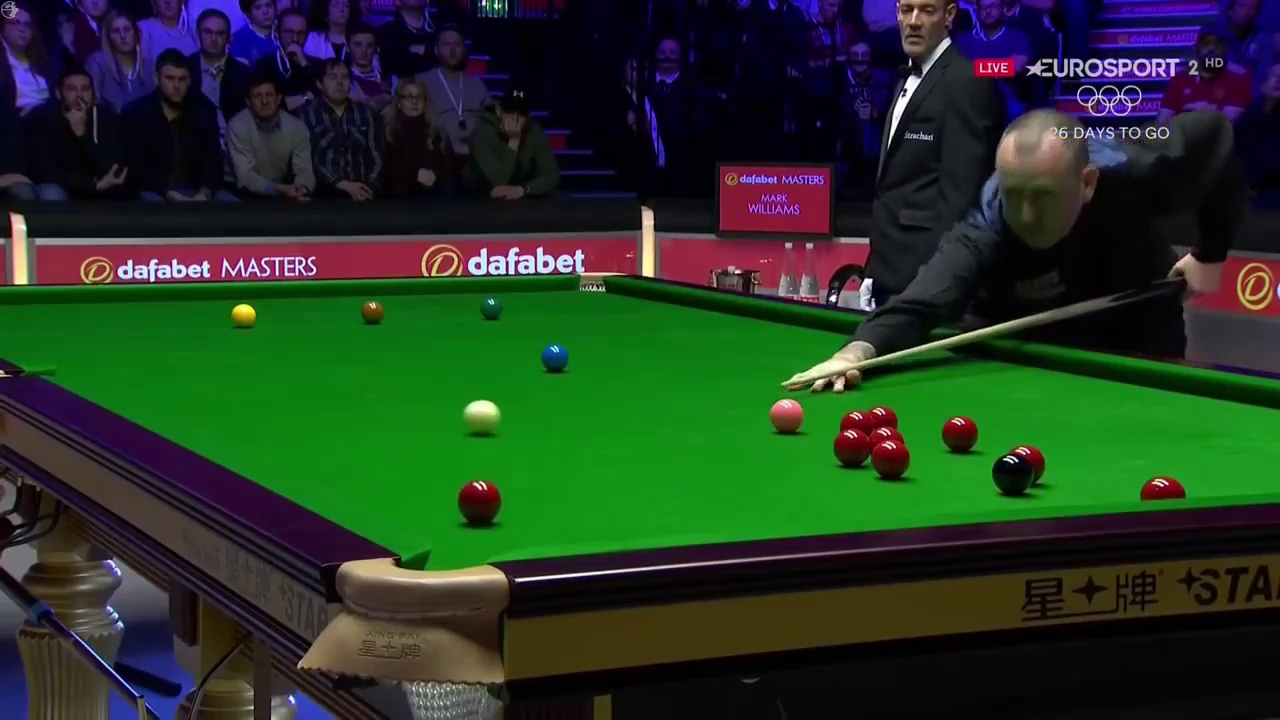black: (992, 456, 1030, 493)
blue: (542, 344, 567, 371)
brown: (361, 300, 384, 321)
green: (477, 297, 504, 321)
pink: (771, 399, 803, 432)
red: (457, 479, 501, 526), (868, 440, 913, 476), (941, 418, 977, 453), (833, 430, 865, 467)
white: (460, 400, 502, 439)
yellow: (232, 305, 256, 327)
